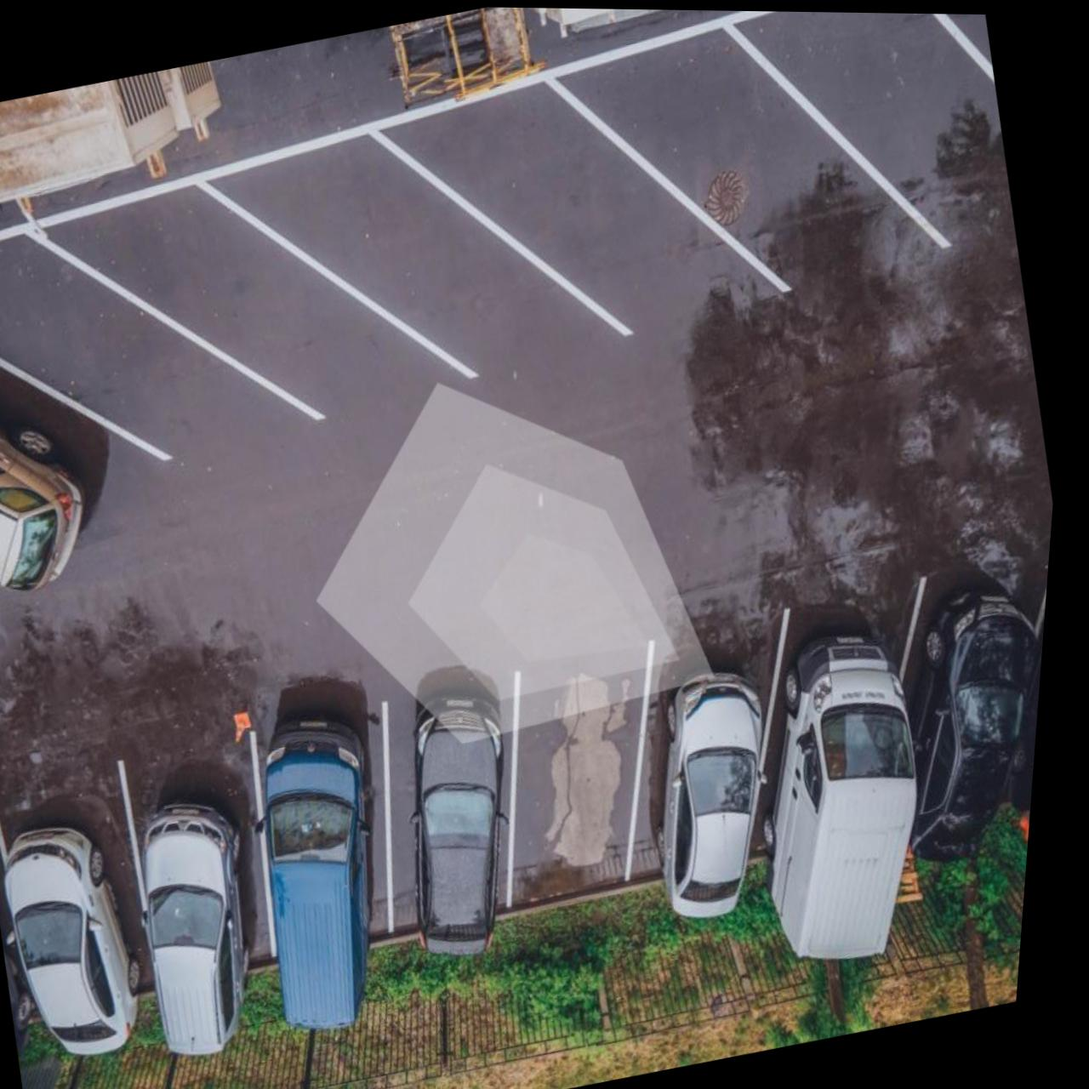cars: (705, 563, 943, 888), (588, 592, 828, 896), (342, 656, 565, 931), (848, 534, 1050, 829), (226, 717, 431, 989), (93, 727, 296, 1001), (0, 763, 182, 1028), (0, 302, 104, 567)
empty: (239, 126, 599, 410), (79, 171, 425, 464), (578, 28, 907, 309), (425, 85, 745, 364), (0, 222, 255, 485), (764, 12, 1029, 265), (467, 635, 699, 907)
